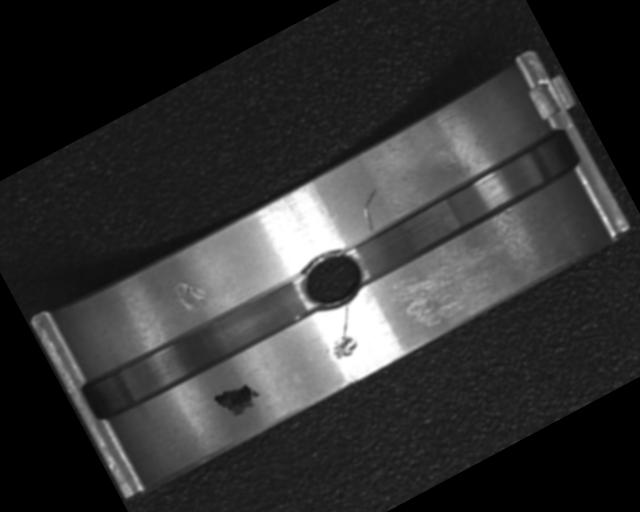blot: (211, 375, 263, 422)
bruise: (167, 268, 213, 317), (325, 329, 363, 362)
gap: (79, 267, 319, 428), (344, 125, 584, 285)
hole: (290, 238, 375, 322)
nick: (352, 187, 393, 232), (327, 301, 364, 341)
scratch: (390, 225, 523, 333)
